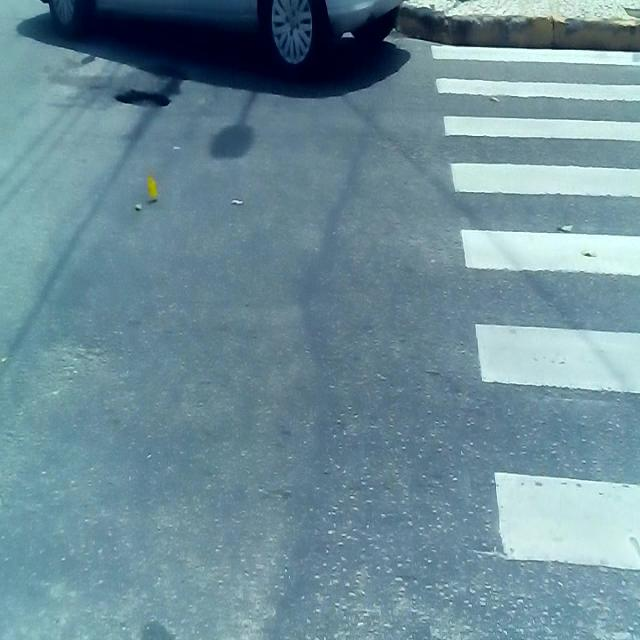crosswalk: (430, 41, 640, 640)
